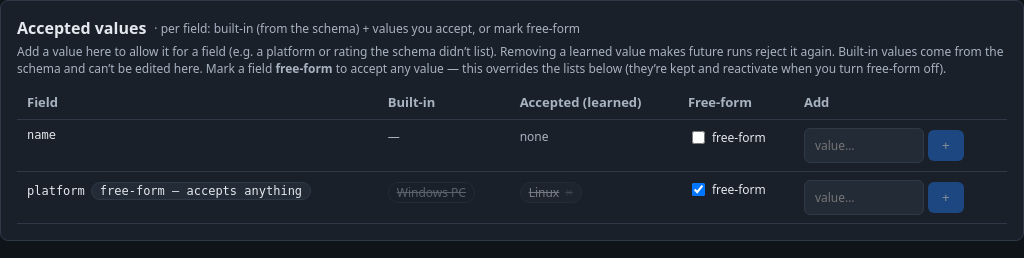
Scenario: AcceptedValuesEditor › turning free-form off re-enables the add input
The width and height of the screenshot is (1024, 258).
Click the checkbox named "Mark platform free-form": (698, 190) top-left (692, 183), bottom-right (705, 196)
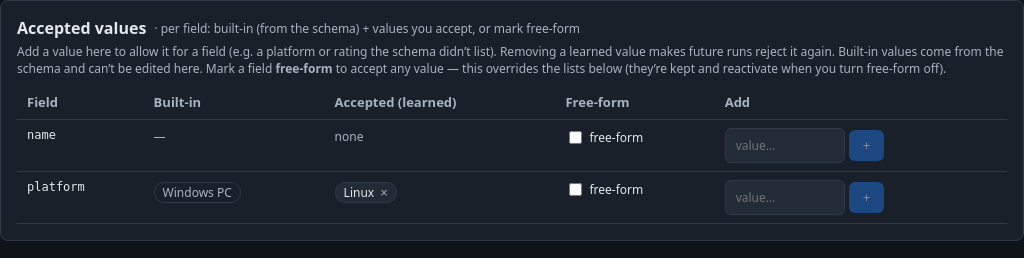
Check: the field named "Accept a value for platform" is enabled, box top-left (725, 180), bottom-right (845, 215)
